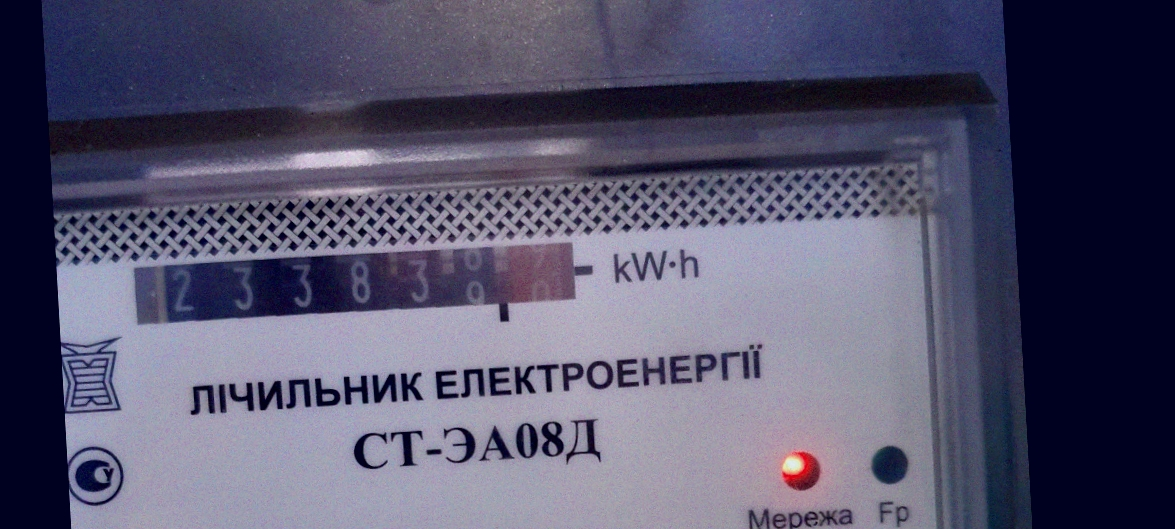0: (529, 276, 552, 303)
2: (170, 266, 196, 314)
3: (285, 259, 317, 309), (227, 261, 258, 311), (405, 255, 431, 302)
8: (345, 257, 374, 305), (461, 245, 485, 273)
9: (526, 240, 550, 271), (463, 276, 486, 307)
screen: (121, 229, 598, 346)
